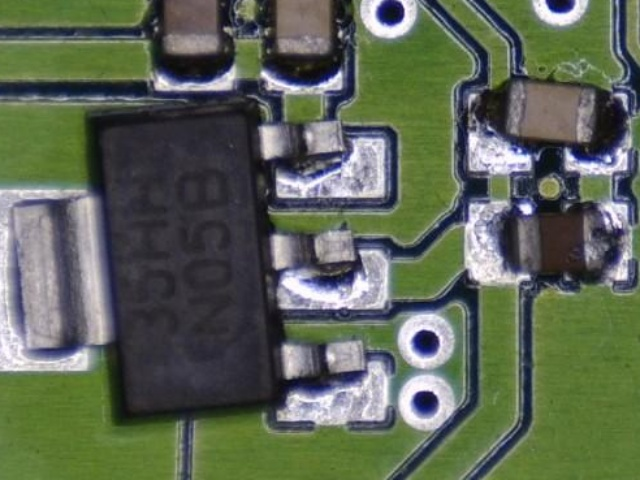pcb_defect: (467, 79, 627, 172)
